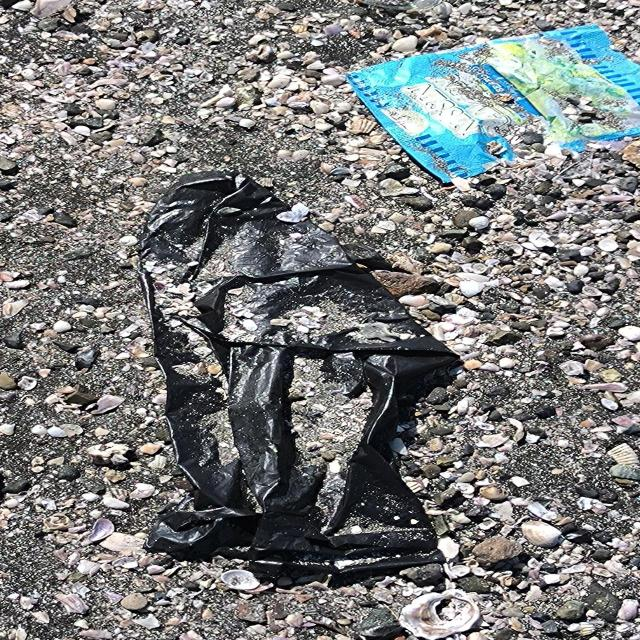plastic_waste: (141, 170, 465, 574), (344, 25, 640, 183)
